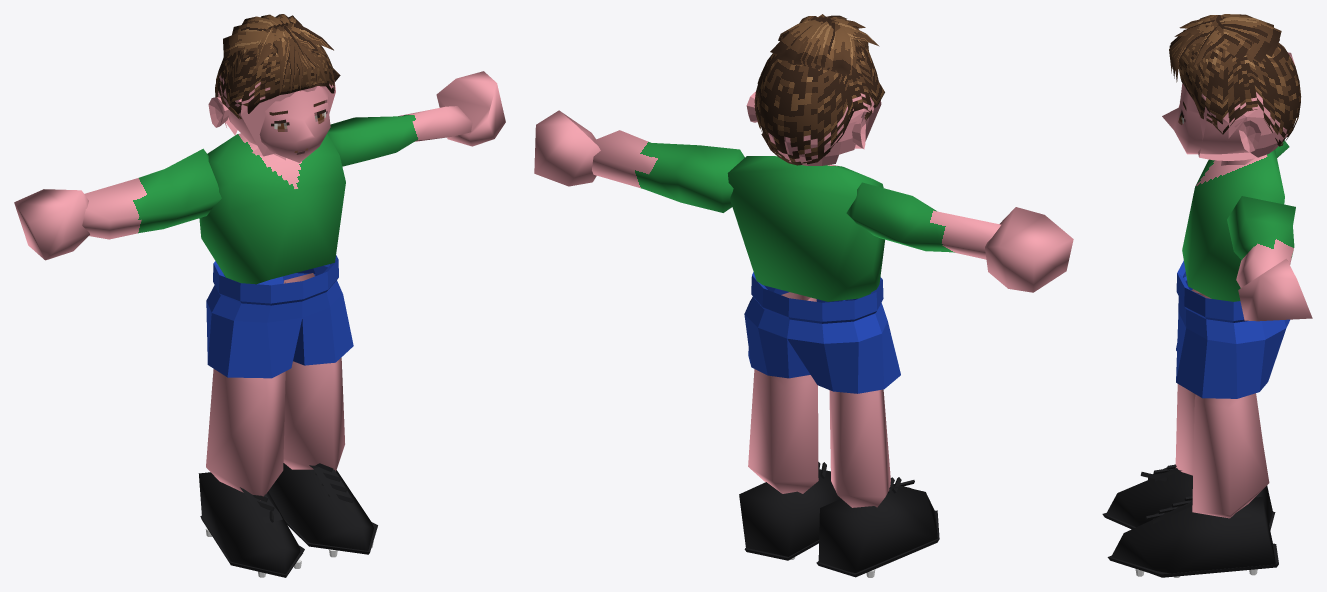
Rendered from 02-jogador-degrade_castanho.glb.
3 views of the same model, side by side, from view 1: azimuth 30°, elevation 25°; view 2: azimuth 150°, elevation 25°; view 3: azimuth 270°, elevation 25° (orthographic). The views are drawn at different scales.
Visible parts, largest first — view 1: Camisa_Tronco, Bermuda, Perna.R, Cabelo, Braco.R, Perna.L, Chuteira.R, Chuteira.L, Braco.L, Mao.R, Cabeca, Mao.L (+4 smaller); view 2: Camisa_Tronco, Cabelo, Bermuda, Perna.L, Braco.L, Chuteira.R, Perna.R, Braco.R, Mao.R, Chuteira.L, Mao.L, Cranio (+1 smaller); view 3: Cabelo, Bermuda, Chuteira.L, Camisa_Tronco, Perna.L, Braco.L, Mao.L, Chuteira.R, Cabeca, Cranio, Perna.R, Chuteira_Sola.L (+3 smaller).
Boxes of the visible parts, x1,y1,x2,y2 form: Camisa_Tronco: (199,133,345,284); Bermuda: (206,255,353,378); Perna.R: (206,369,285,500); Cabelo: (215,14,340,119); Braco.R: (82,148,221,239); Perna.L: (283,273,344,471); Chuteira.R: (198,472,302,573); Chuteira.L: (268,463,373,550); Braco.L: (327,106,472,166); Mao.R: (14,189,89,260); Cabeca: (228,86,330,162); Mao.L: (436,71,505,146); Camisa_Tronco: (727,156,884,301); Cabelo: (754,14,884,165); Bermuda: (744,272,900,393); Perna.L: (748,292,818,493); Braco.L: (592,130,744,212); Chuteira.R: (818,484,937,572); Perna.R: (829,389,890,507); Braco.R: (846,182,1001,259); Mao.R: (985,207,1073,292); Chuteira.L: (739,469,840,556); Mao.L: (534,110,600,186); Cranio: (768,93,881,165); Cabelo: (1169,14,1301,146); Bermuda: (1176,260,1289,398); Chuteira.L: (1111,497,1276,577); Camisa_Tronco: (1182,149,1284,301); Perna.L: (1192,393,1269,518); Braco.L: (1227,196,1295,287); Mao.L: (1238,258,1312,321); Chuteira.R: (1106,468,1272,527); Cabeca: (1162,83,1248,154); Cranio: (1198,92,1287,160); Perna.R: (1175,289,1261,475); Chuteira_Sola.L: (1107,543,1278,577).
Bounding box in the file's own units: 0.4523 × 0.4516 × 0.1617.
3 materials, 3 textured.
